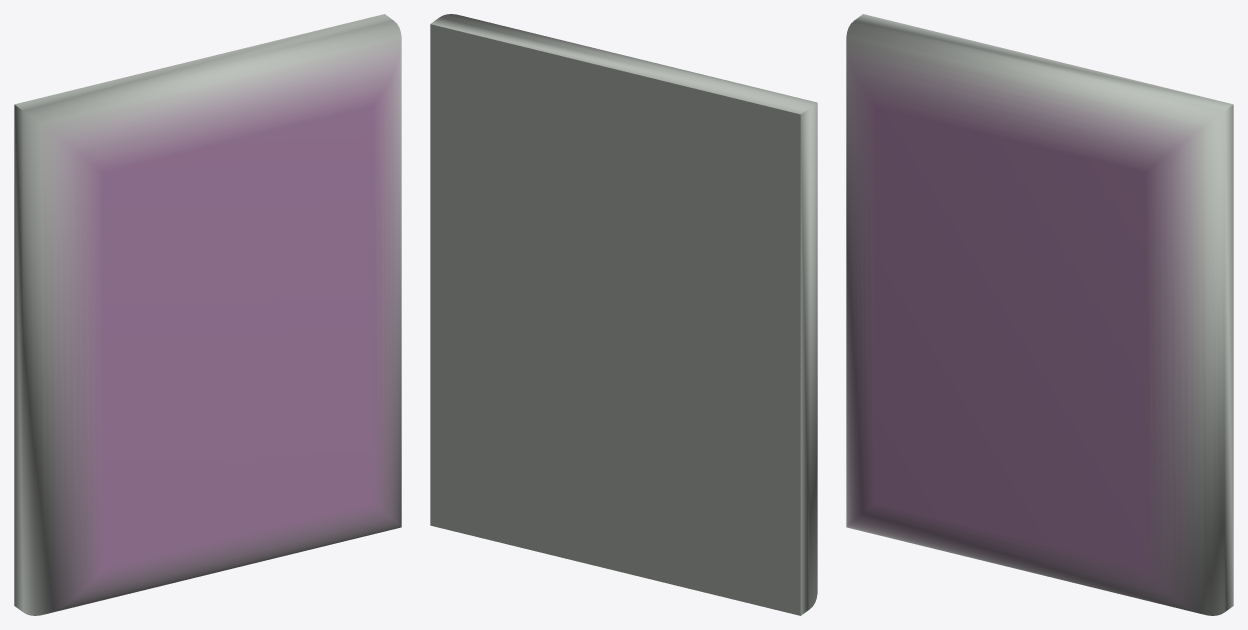
3 renders of one model, left to right at view 1: azimuth 30°, elevation 25°; view 2: azimuth 150°, elevation 25°; view 3: azimuth 330°, elevation 25°, orthographic.
Visible parts, largest first — view 1: slab; view 2: slab; view 3: slab.
Boxes of the visible parts, x1,y1,x2,y2 form: slab: (14,14,401,615); slab: (430,14,817,615); slab: (846,14,1233,615).
Bounding box in the file's own units: 0.2319 × 0.3 × 0.0414.
